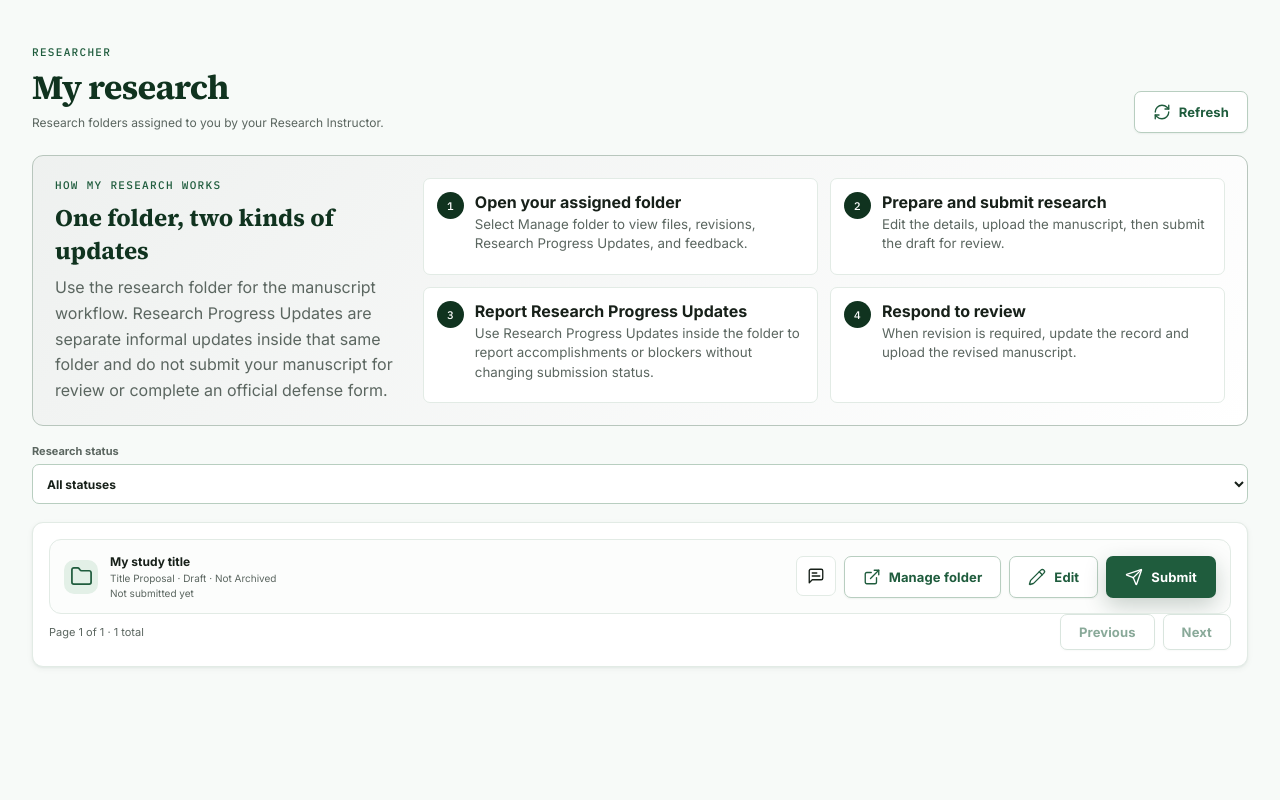
Test case: role workspace pages › edits an existing draft from My Submissions and reloads the row
Click the button "Edit" at [1054, 577], box [1009,556,1098,598]
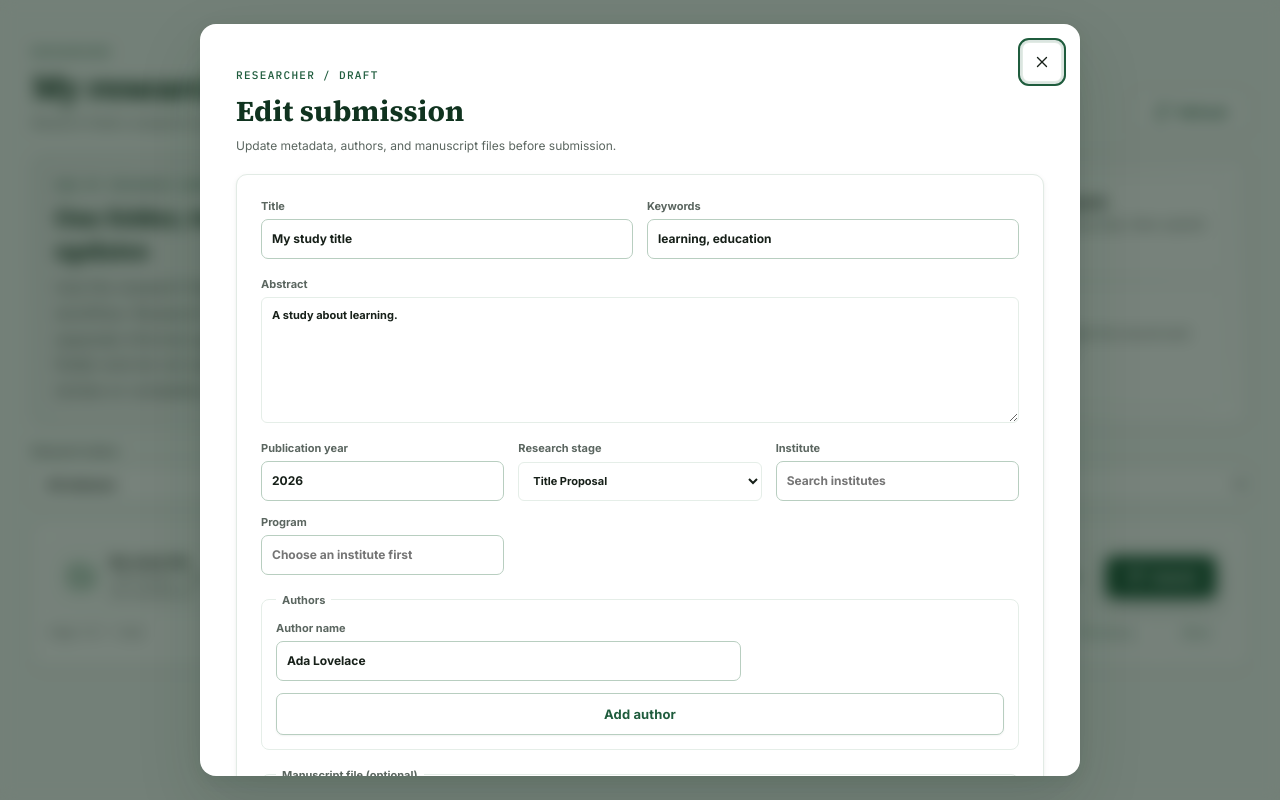
Expected: the heading "Edit submission" is shown, [236,91,464,131]
Replace the text in the field labelled "Title" with "Updated study title" at [447, 239], box [261,219,633,259]
(page scrolled)
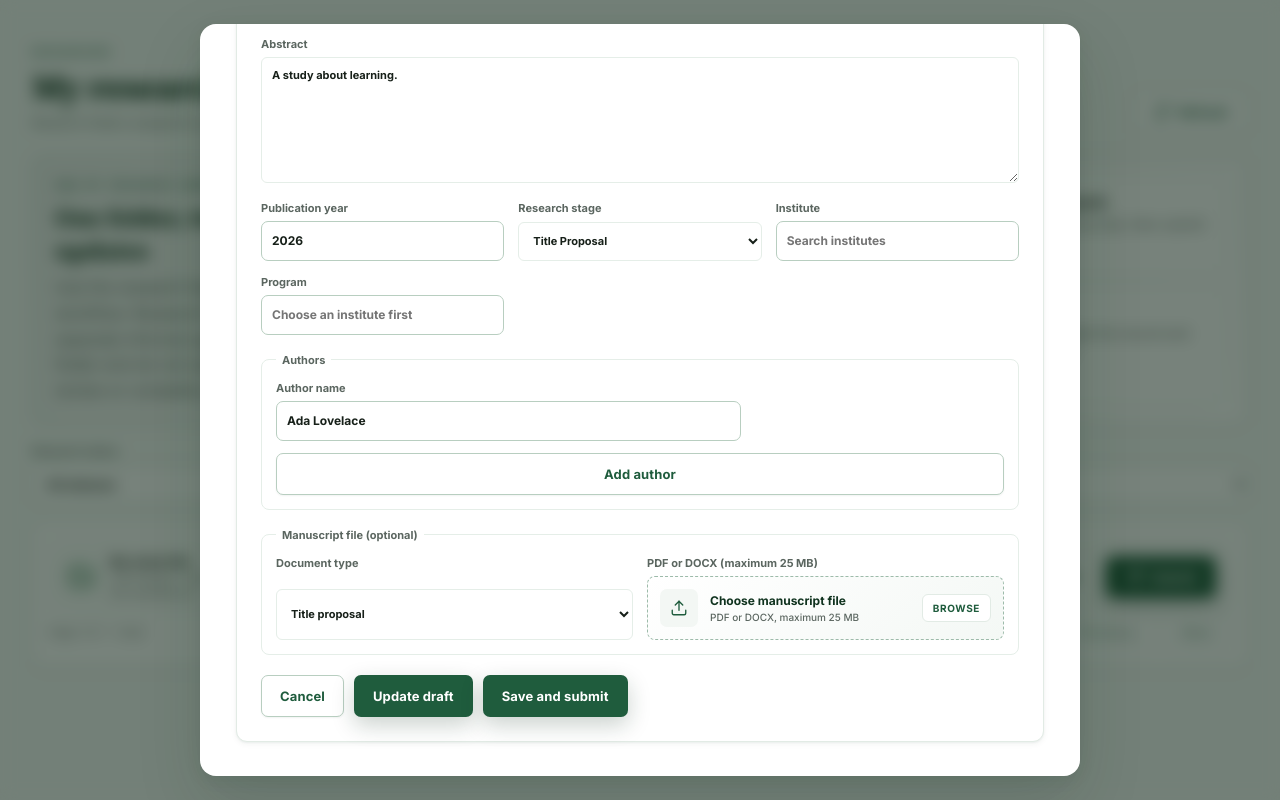
Click the button "Update draft" at [413, 696], box [354,675,473,717]
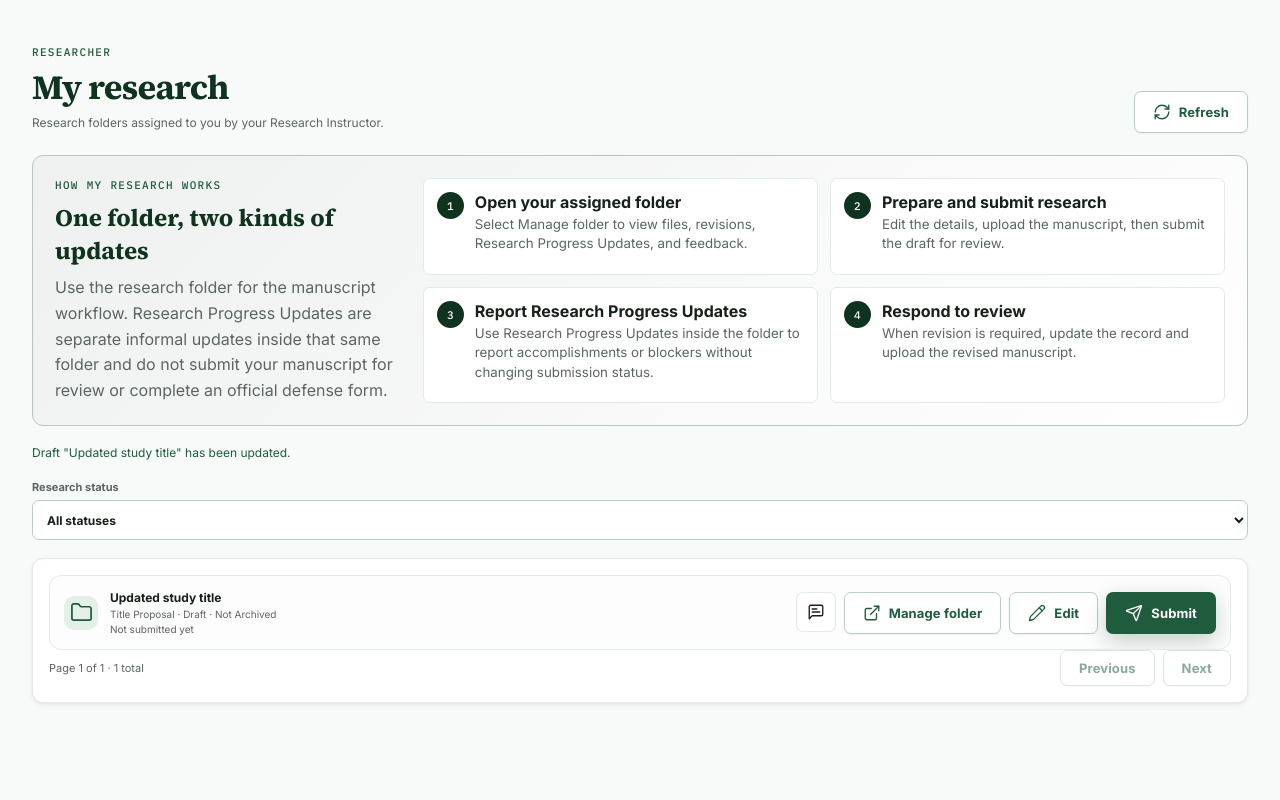
Expected: the heading "Edit submission" is not shown
Expected: the text "Draft \"Updated study title\" has been updated." is shown, [32,445,290,460]
